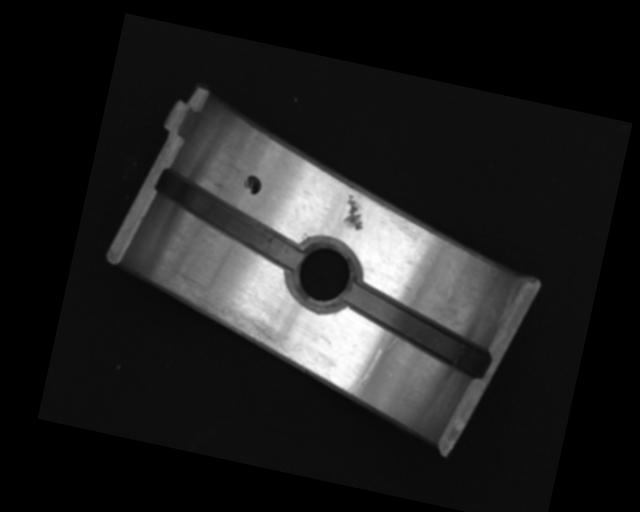blot: (242, 173, 264, 195)
bruise: (340, 193, 369, 232)
gap: (142, 167, 312, 272), (336, 281, 498, 379)
hole: (281, 237, 364, 316)
nick: (346, 344, 381, 400)
scratch: (153, 268, 304, 359)
